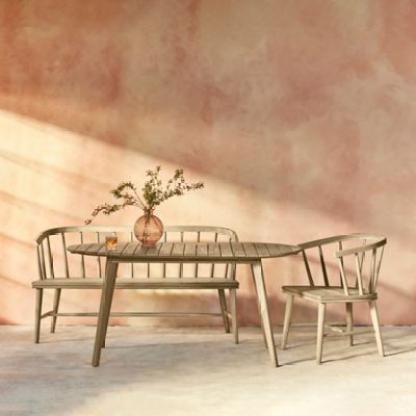table: (62, 236, 304, 374)
